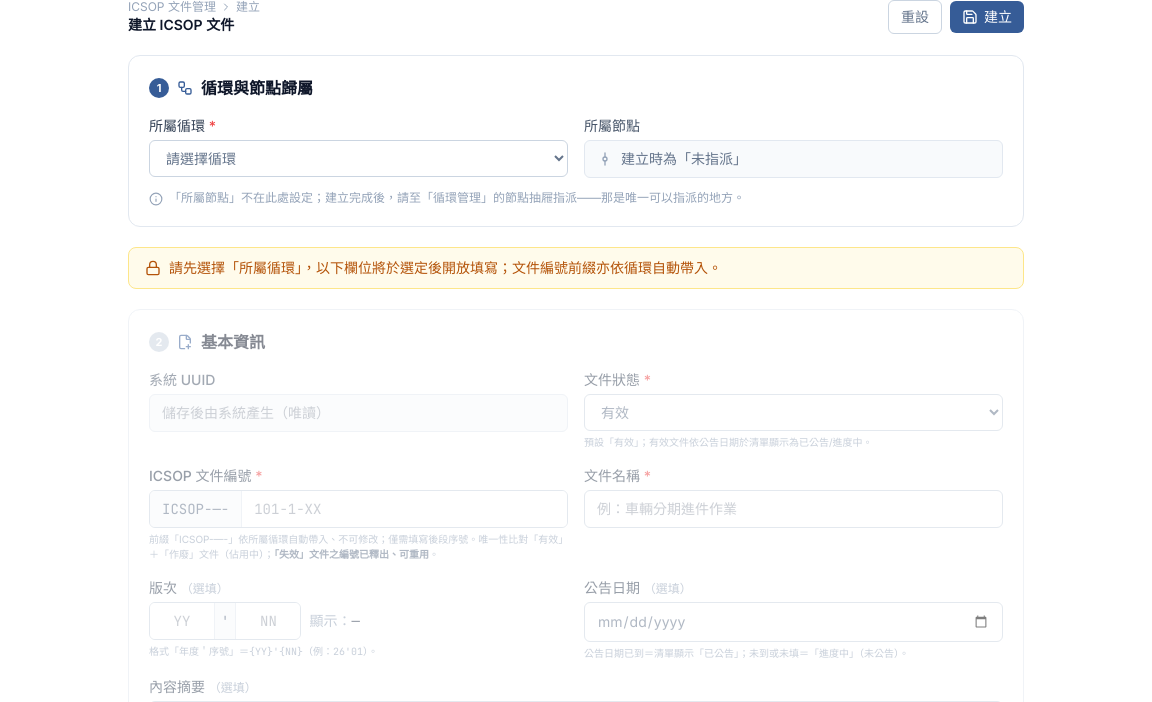
it: DocumentCreatePage — 使用表單之編號顯示與搜尋（2026-08-26 UX ②） › 可用**編號**搜尋（過濾以 label 為準）：輸入 FM-SRC-002 只留下該份
The width and height of the screenshot is (1152, 702).
Select "銷售及收款循環" in the dropdown named "所屬循環" at (358, 158), box [149, 140, 568, 177]
(page scrolled)
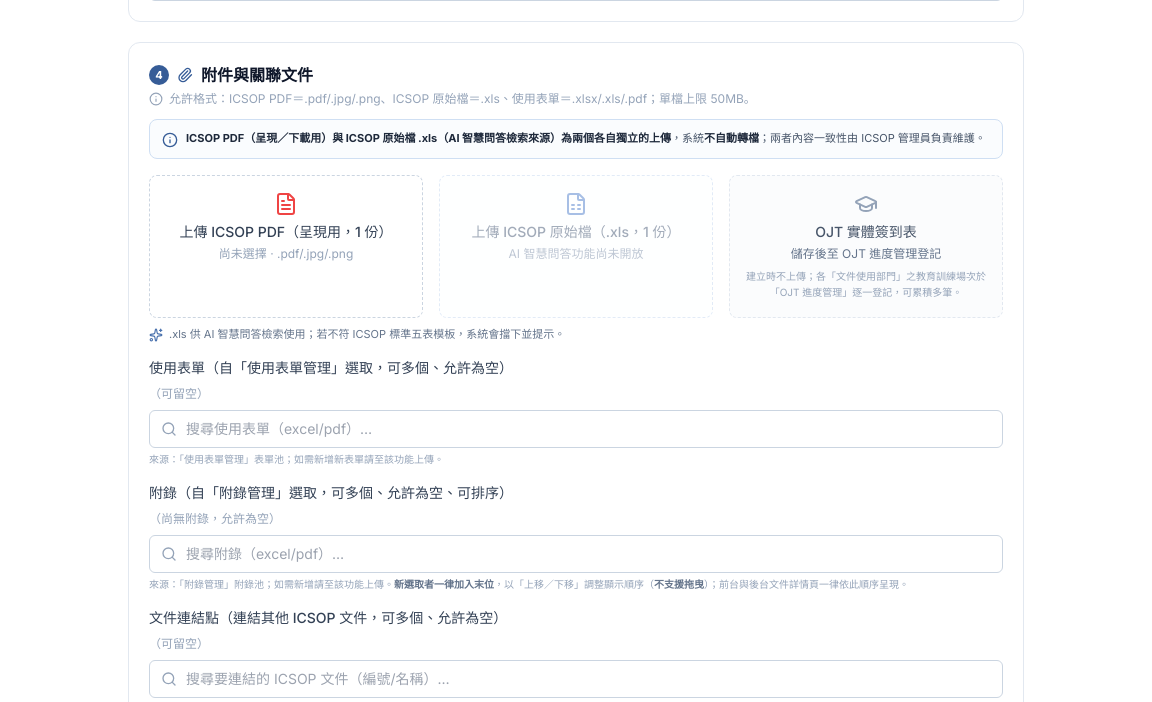
Type "FM-SRC-002" into the dropdown labelled "使用表單（自「使用表單管理」選取，可多個、允許為空）".
click(576, 429); type("FM-SRC-002")  # box [149, 410, 1003, 448]
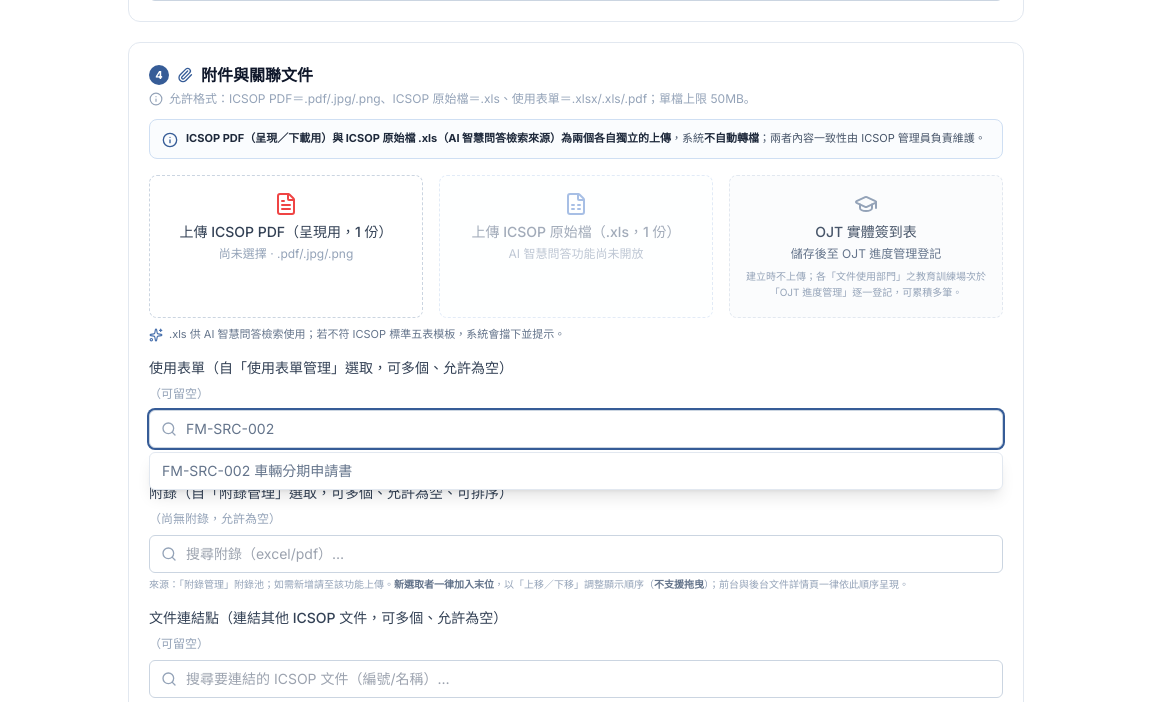
Expected: the options read "FM-SRC-002 車輛分期申請書", in this order, [150, 453, 1002, 489]
